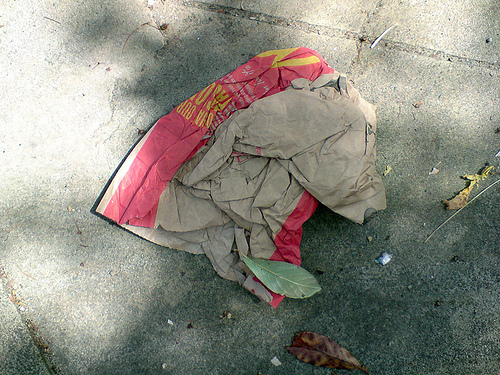litter: (94, 47, 386, 311)
